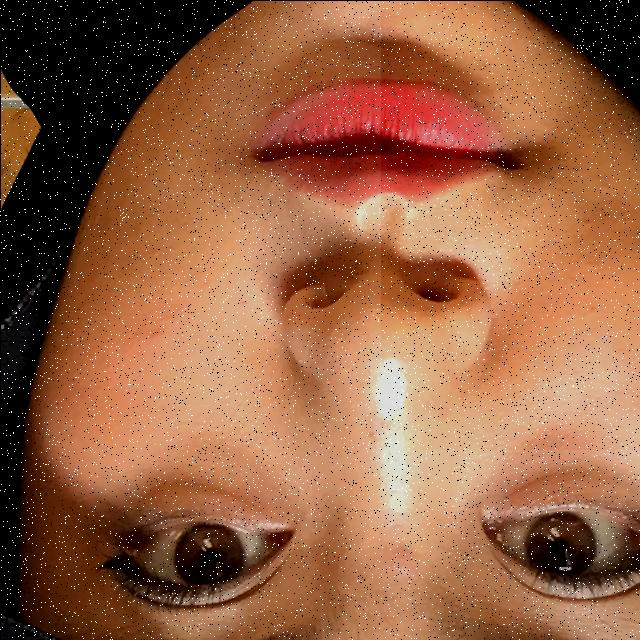ibu: (380, 0, 640, 449)
